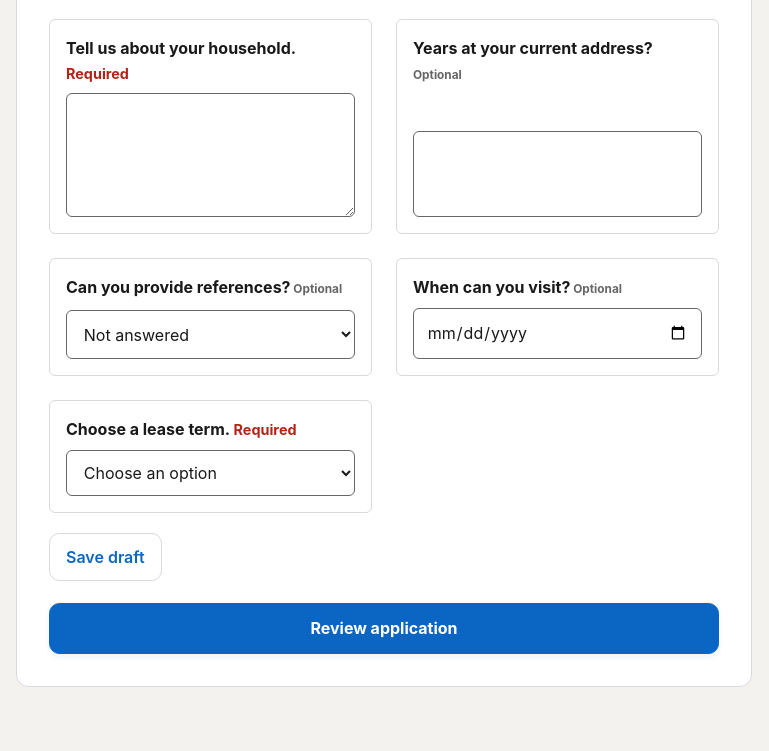
Test: draft application question controls › reports partial save failure without claiming answers were saved
This screenshot has width=769, height=751.
(page scrolled)
Click the button "Save draft". click: (105, 557)
box: [49, 533, 162, 581]
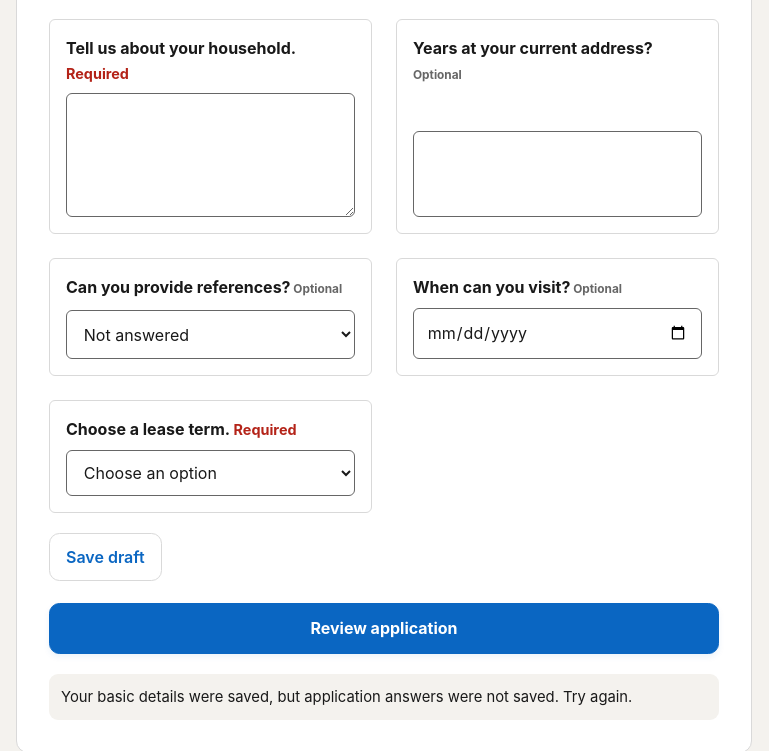
expect the text "Your basic details were saved, but application answers were not saved. Try again." is shown: met, box [61, 688, 632, 706]
